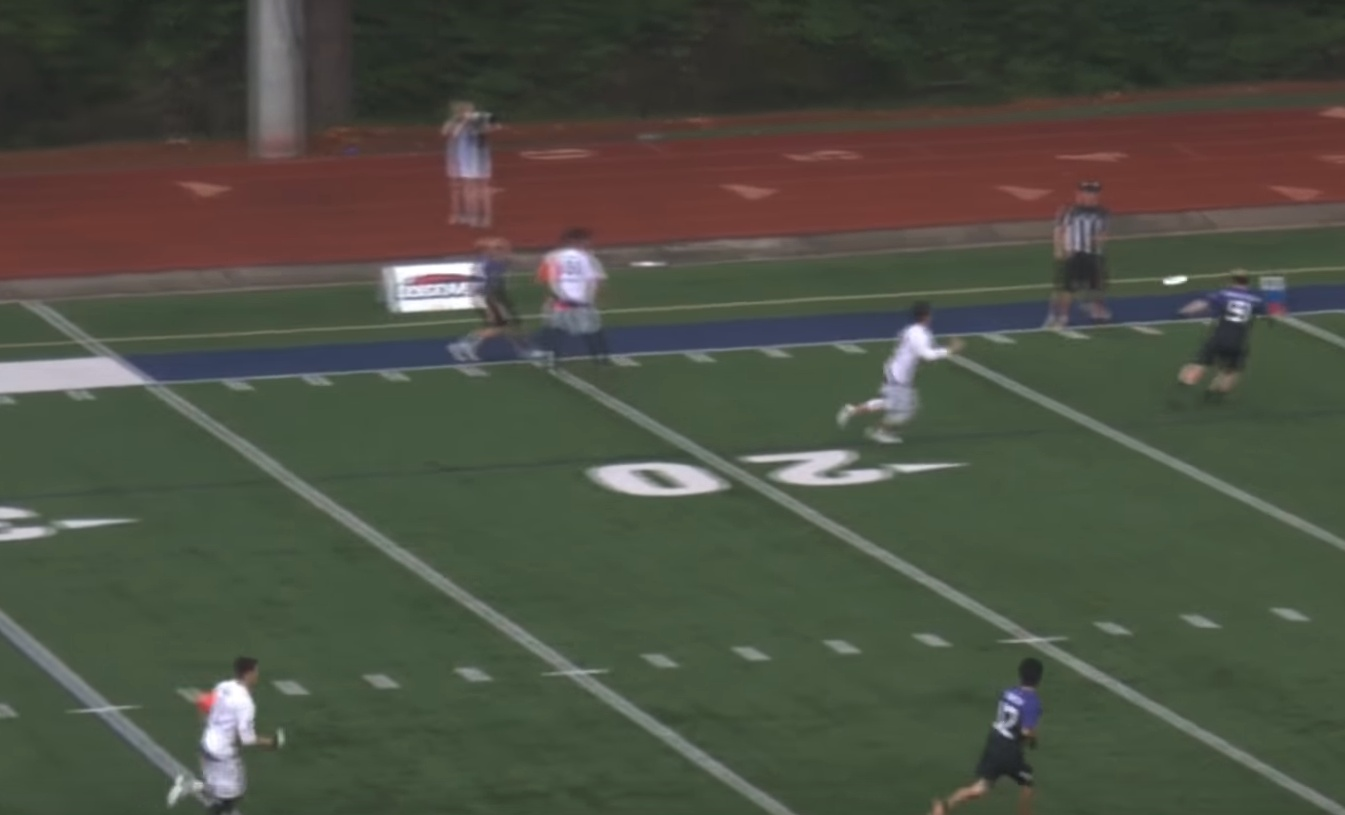frisbee: (1162, 274, 1188, 286)
